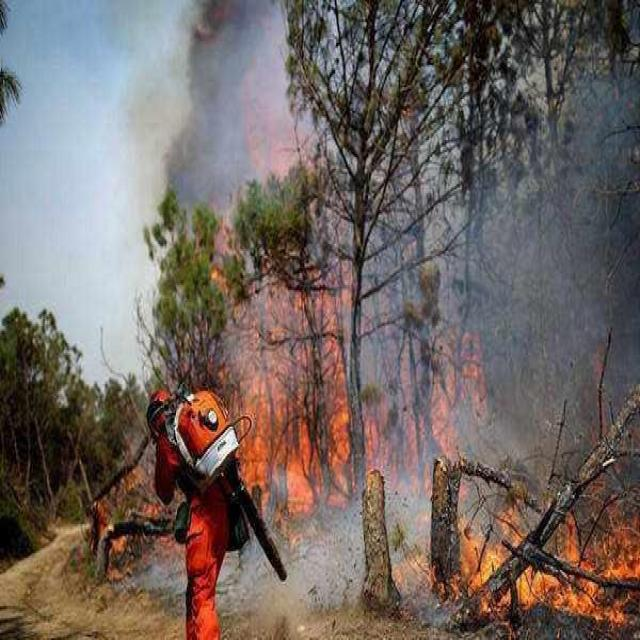fire: (203, 88, 493, 510), (413, 422, 624, 630), (86, 456, 179, 561)
